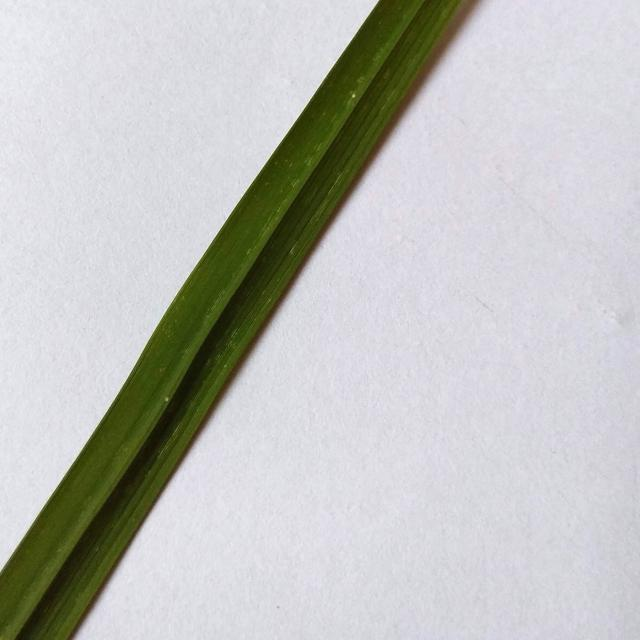Rice_Healthy: (0, 0, 461, 640)
